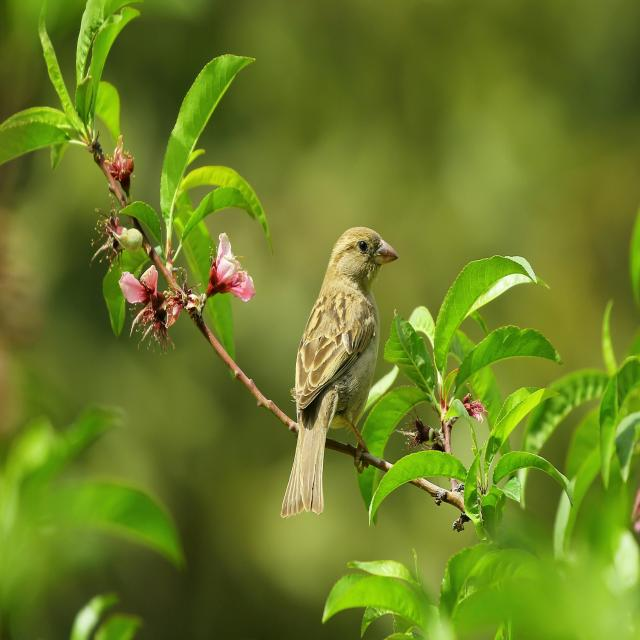Sparrow: (268, 217, 408, 534)
